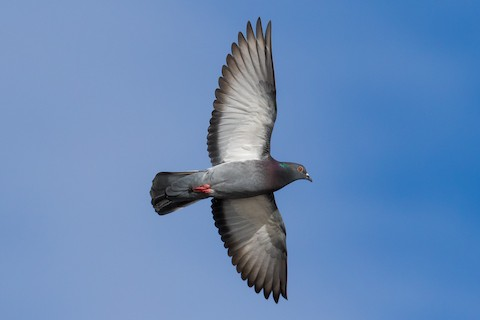pigeon: (143, 16, 317, 303)
